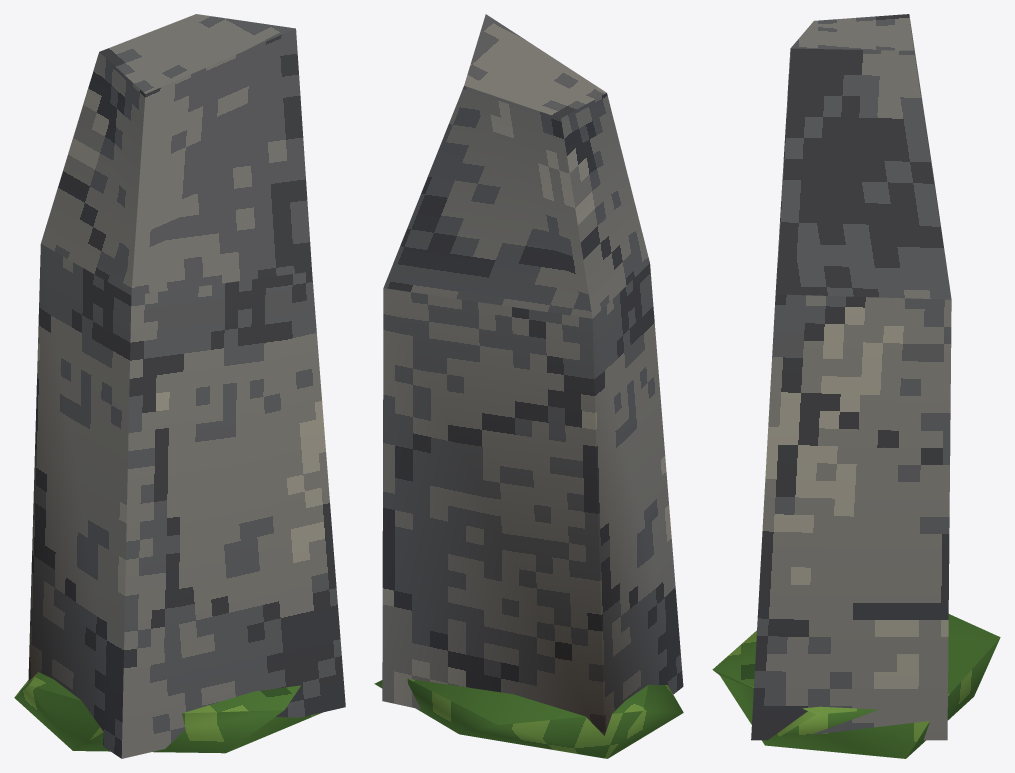
Rendered from mnat.rock__standing.glb.
The picture shows the model from 3 angles, left to right: view 1: azimuth 30°, elevation 25°; view 2: azimuth 150°, elevation 25°; view 3: azimuth 270°, elevation 25°; orthographic projection. The views are drawn at different scales.
Visible parts, largest first — view 1: kit_rock, kit_moss; view 2: kit_rock, kit_moss; view 3: kit_rock, kit_moss.
Boxes of the visible parts, x1,y1,x2,y2 form: kit_rock: [28, 14, 345, 758]; kit_moss: [14, 672, 322, 753]; kit_rock: [382, 14, 683, 735]; kit_moss: [374, 678, 683, 758]; kit_rock: [751, 14, 951, 740]; kit_moss: [712, 614, 1000, 758].
Size of the model in its own units: 1.04 by 2.49 by 0.9323.
2 materials, 2 textured.
